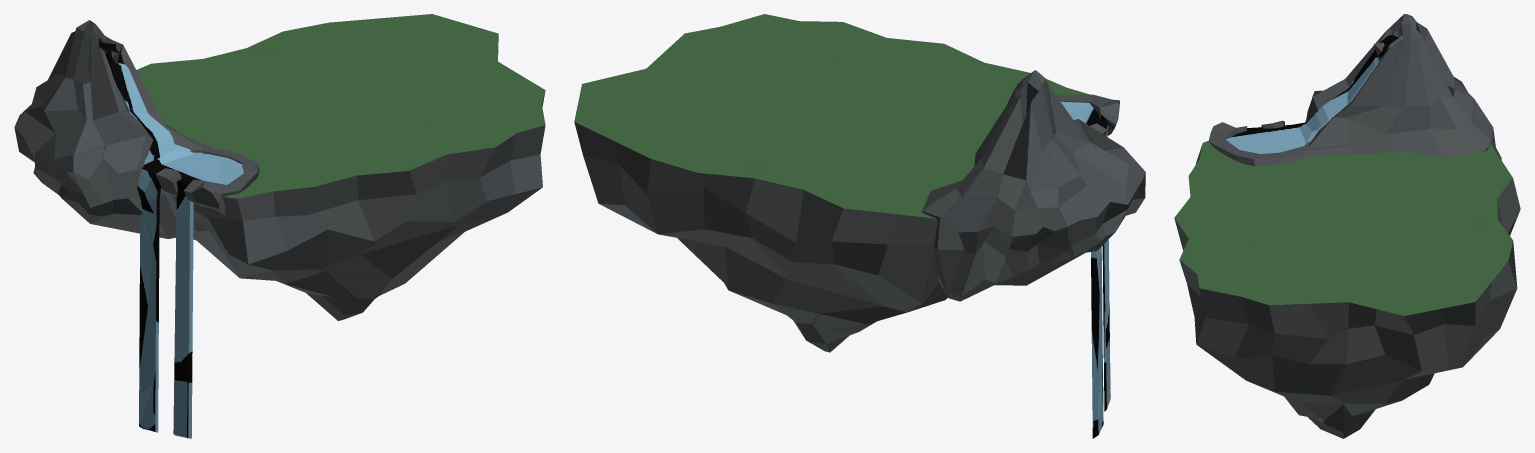
Rendered from k island v0.8.fbx.
3 renders of one model, left to right at view 1: azimuth 30°, elevation 25°; view 2: azimuth 150°, elevation 25°; view 3: azimuth 270°, elevation 25°, orthographic. The views are drawn at different scales.
Parts seen in each view (by area): view 1: Island, Mountain, Water, Lake; view 2: Island, Mountain, Water, Lake; view 3: Island, Mountain, Water, Lake.
Boxes of the visible parts, left/top/right/bottom form: Island: left=136, top=14, right=545, bottom=320; Mountain: left=14, top=20, right=212, bottom=245; Water: left=98, top=41, right=243, bottom=438; Lake: left=155, top=134, right=259, bottom=215; Island: left=574, top=14, right=1089, bottom=352; Mountain: left=922, top=70, right=1145, bottom=301; Water: left=1061, top=101, right=1110, bottom=438; Lake: left=1056, top=94, right=1119, bottom=135; Island: left=1174, top=140, right=1520, bottom=438; Mountain: left=1305, top=14, right=1501, bottom=160; Water: left=1226, top=34, right=1398, bottom=153; Lake: left=1209, top=120, right=1354, bottom=166.
Bounding box in the file's own units: 417 × 315 × 275.
